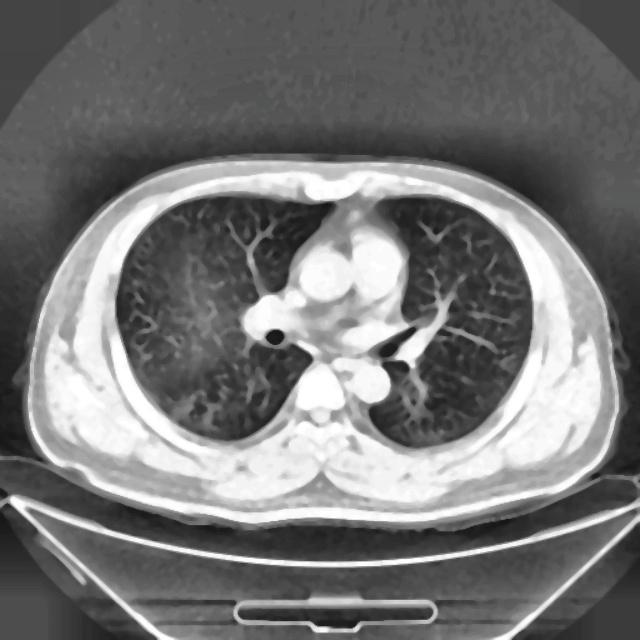covid: (18, 151, 627, 532)
